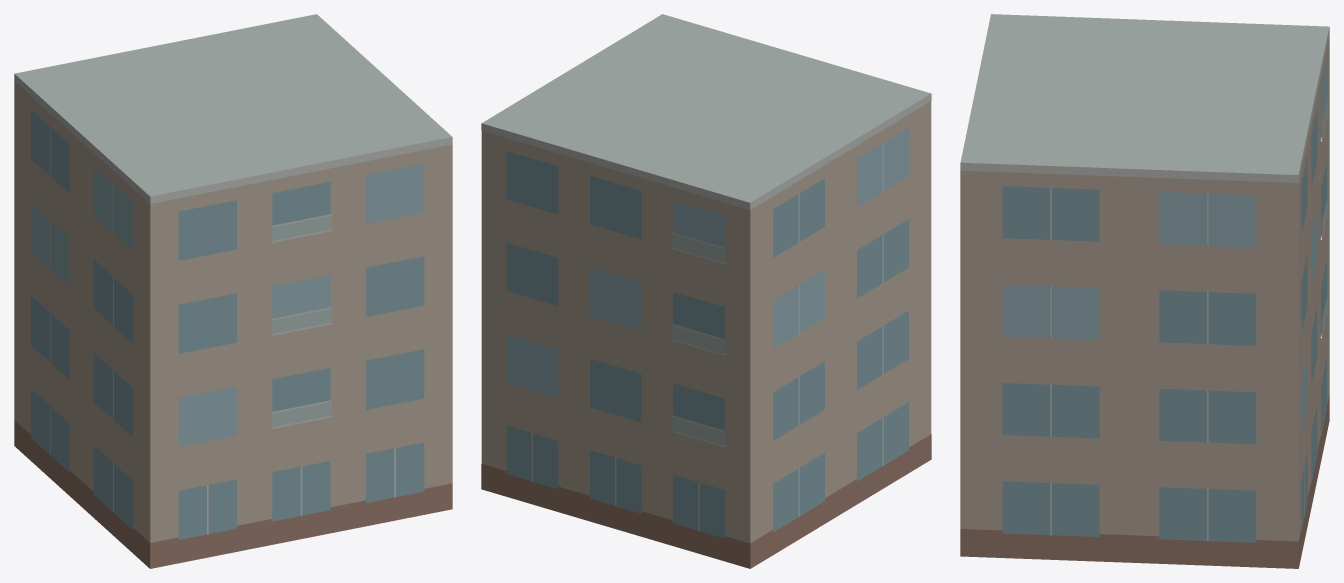
Rendered from residential-64d3393c-0db9-4b29-a597-987b4fcde324.glb.
3 renders of one model, left to right at view 1: azimuth 30°, elevation 25°; view 2: azimuth 150°, elevation 25°; view 3: azimuth 270°, elevation 25°, orthographic. The views are drawn at different scales.
Parts seen in each view (by area): view 1: residential-64d3393c-0db9-4b29-a597-987b4fcde324.tmp; view 2: residential-64d3393c-0db9-4b29-a597-987b4fcde324.tmp; view 3: residential-64d3393c-0db9-4b29-a597-987b4fcde324.tmp.
Part boxes in pixels (left/top/right/bottom): residential-64d3393c-0db9-4b29-a597-987b4fcde324.tmp: left=14, top=14, right=452, bottom=568; residential-64d3393c-0db9-4b29-a597-987b4fcde324.tmp: left=481, top=14, right=931, bottom=568; residential-64d3393c-0db9-4b29-a597-987b4fcde324.tmp: left=960, top=14, right=1329, bottom=568.
Size of the model in its own units: 10.72 by 12.2 by 10.38.
